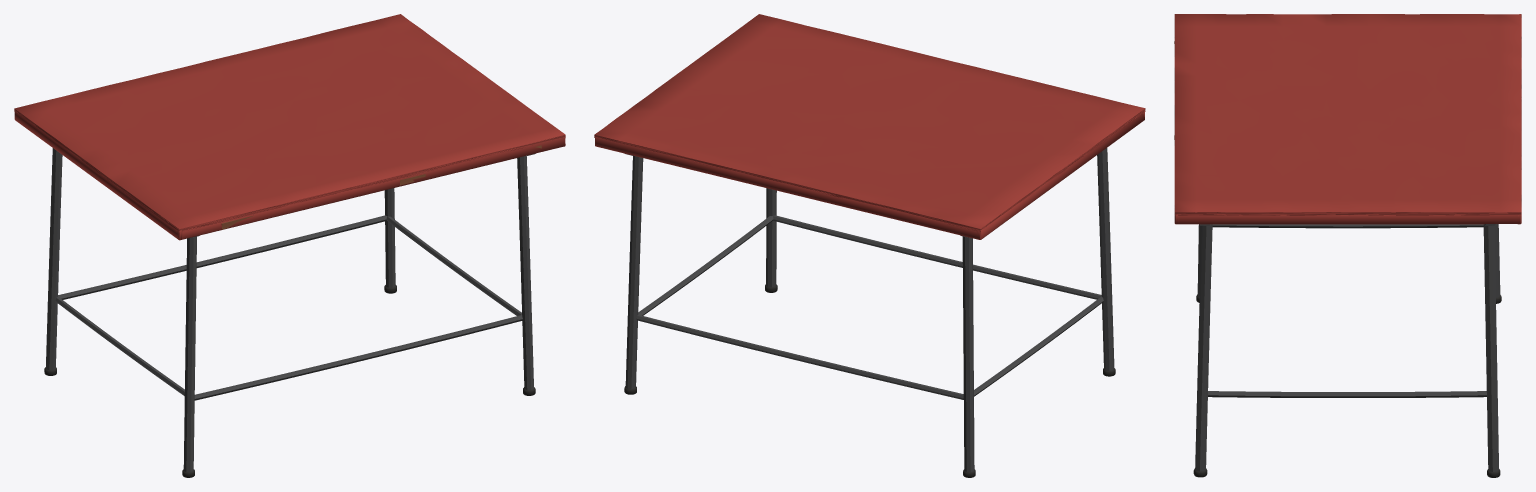
Rendered from table.glb.
The picture shows the model from 3 angles, left to right: view 1: azimuth 30°, elevation 25°; view 2: azimuth 150°, elevation 25°; view 3: azimuth 270°, elevation 25°; orthographic projection. The views are drawn at different scales.
Parts seen in each view (by area): view 1: CafeTable; view 2: CafeTable; view 3: CafeTable.
Part boxes in pixels (x1,y1,x2,y2): CafeTable: [14, 14, 565, 477]; CafeTable: [594, 14, 1145, 477]; CafeTable: [1174, 14, 1521, 477].
Size of the model in its own units: 1.15 by 0.7454 by 0.8516.
